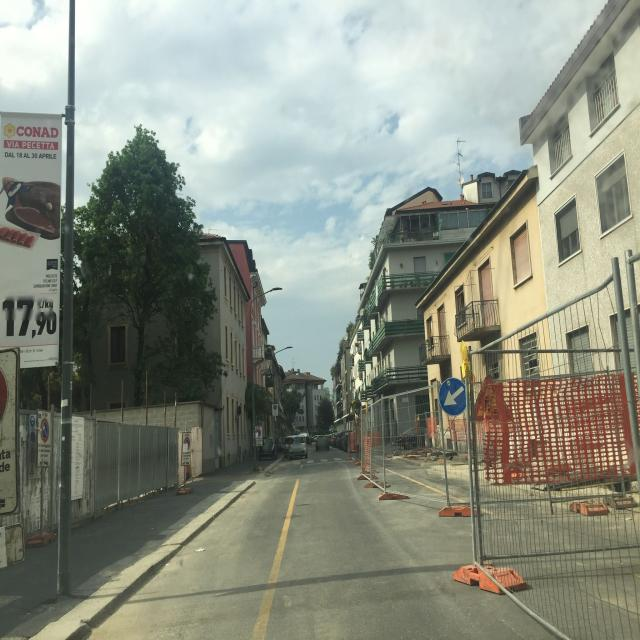forb_stopping: (40, 420, 49, 443)
